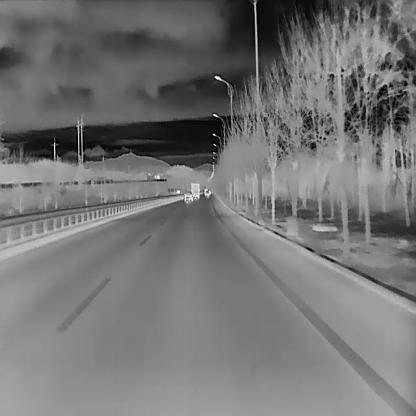car: (190, 182, 200, 198), (184, 190, 193, 202), (206, 192, 210, 197)
